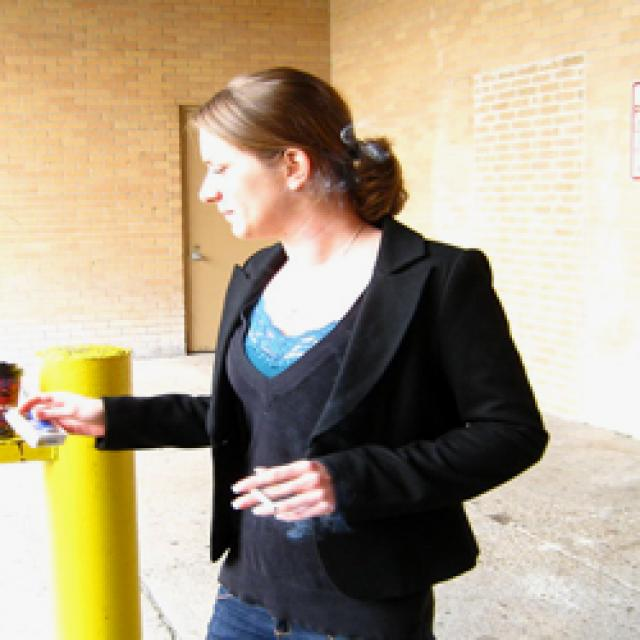Smooking: (250, 472, 286, 524)
